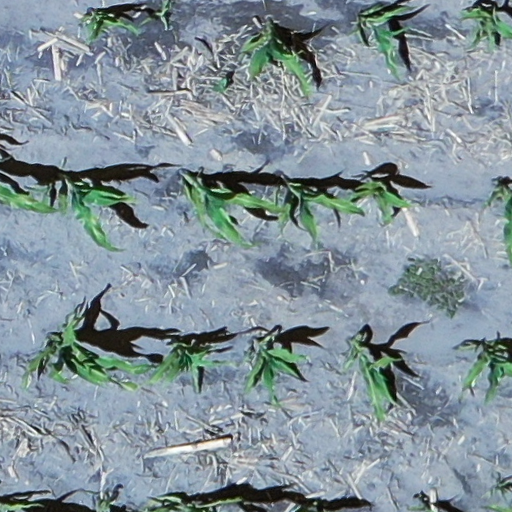planta: (23, 300, 152, 390), (180, 173, 294, 248), (226, 22, 314, 97), (343, 3, 420, 76), (145, 341, 236, 397), (344, 336, 402, 422), (69, 181, 137, 252), (287, 182, 367, 242), (244, 336, 308, 407), (457, 338, 511, 404), (347, 181, 413, 222), (461, 6, 511, 54), (81, 11, 139, 41)
